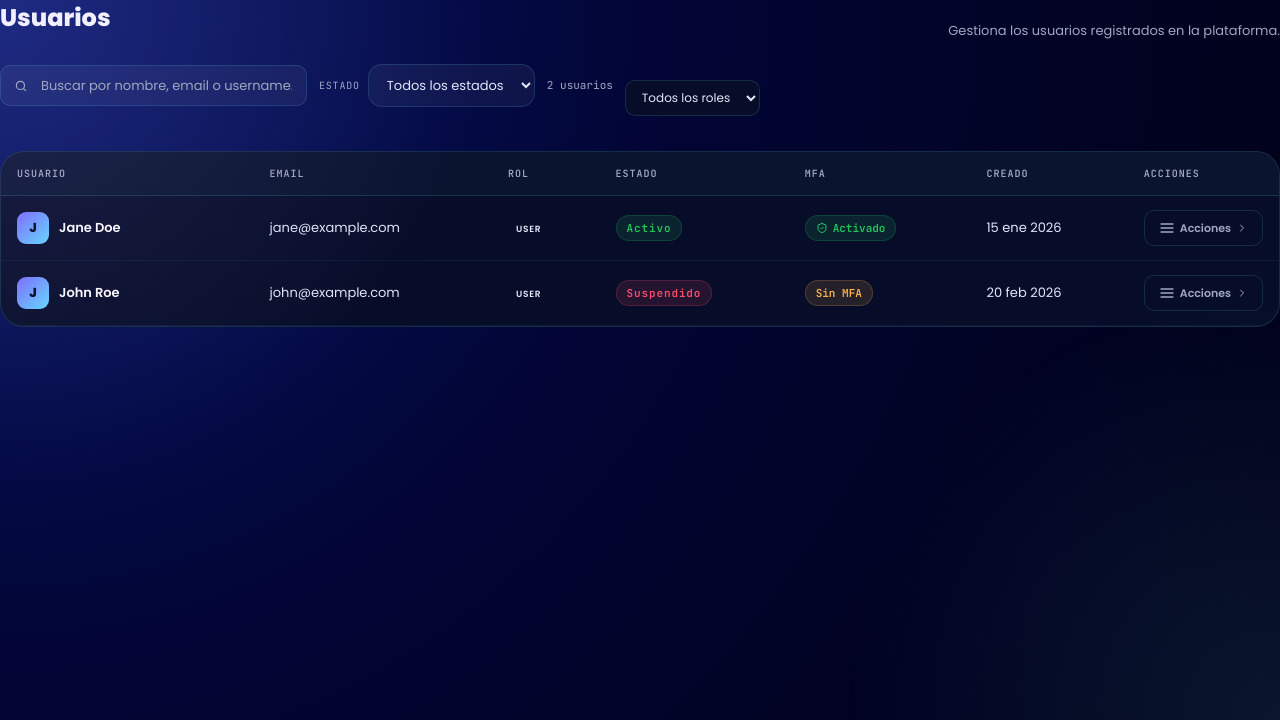
Test case: AdminUserPage › surfaces a failure without changing the row
Step 1. Click the button "Acciones" in the row of "Jane Doe" → (1203, 228), box [1144, 210, 1263, 246]
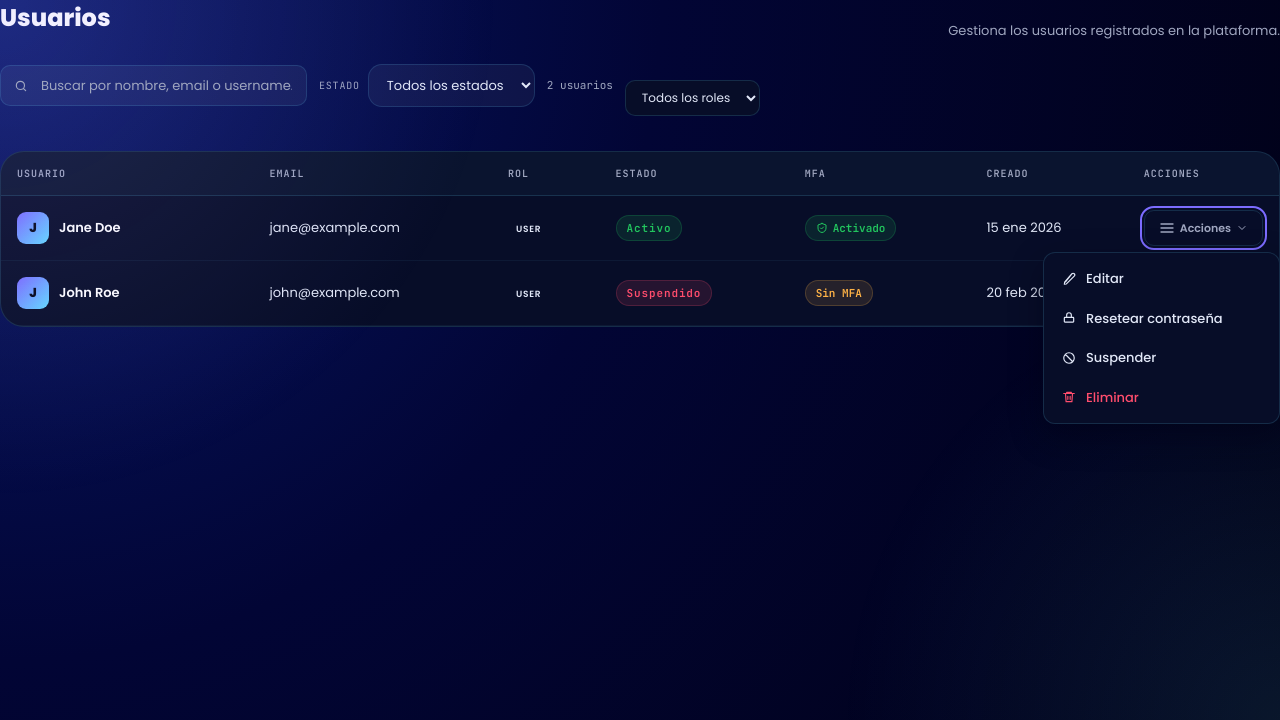
Expected: the menu is shown, [1043, 252, 1279, 424]
Step 2. Click the menu item "Suspender" → (1162, 358), box [1050, 338, 1273, 378]
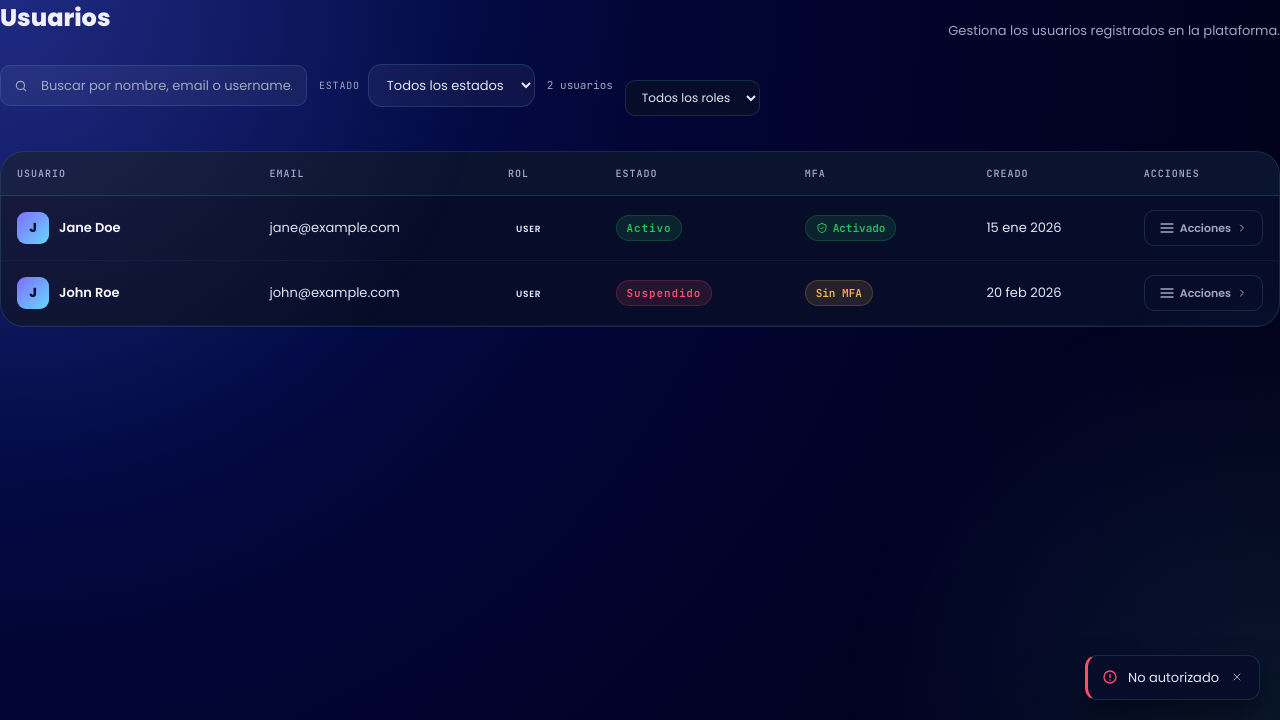
Expected: the text "Activo" is shown, [616, 215, 682, 241]
Expected: the text "No autorizado" is shown, [1128, 668, 1219, 687]
